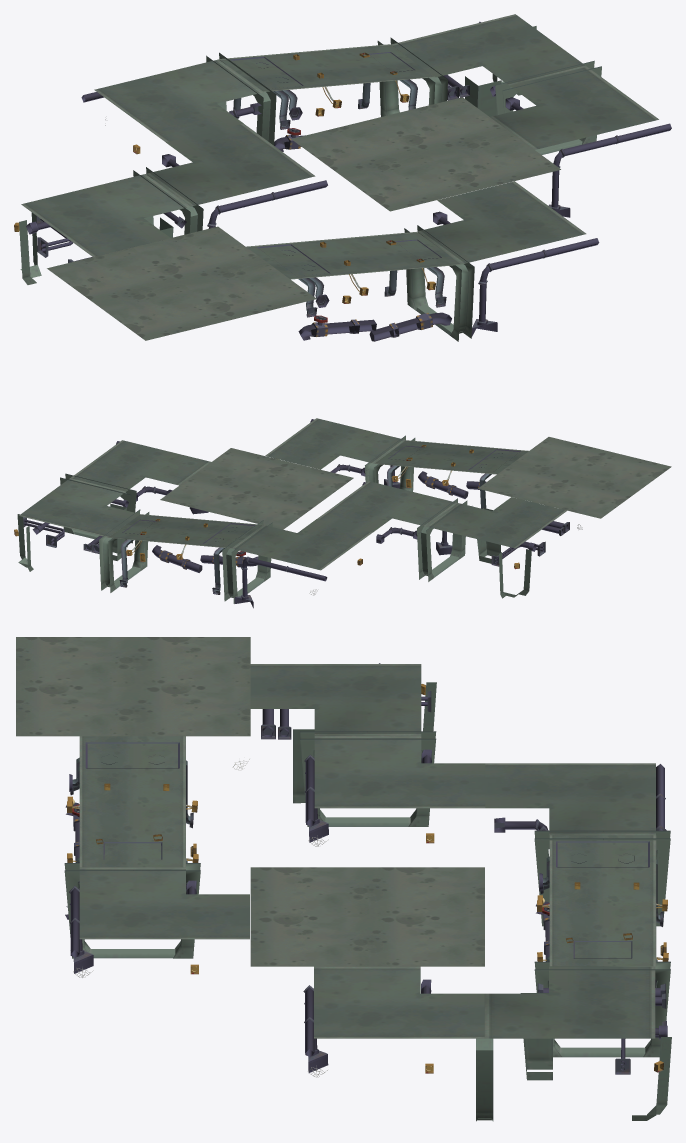
File: scene_page_01.obj
3 renders of one model, top to bottom at view 1: azimuth 30°, elevation 25°; view 2: azimuth 150°, elevation 25°; view 3: azimuth 270°, elevation 25°, orthographic. The views are drawn at different scales.
Size of the model in its own units: 75.92 by 11.35 by 56.1.
Materials: 1 (1 with a texture image).
